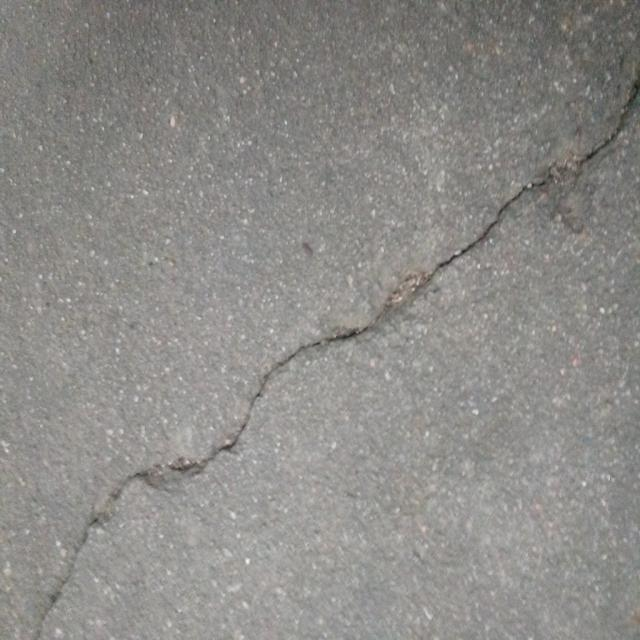cracks: (0, 18, 640, 640)
